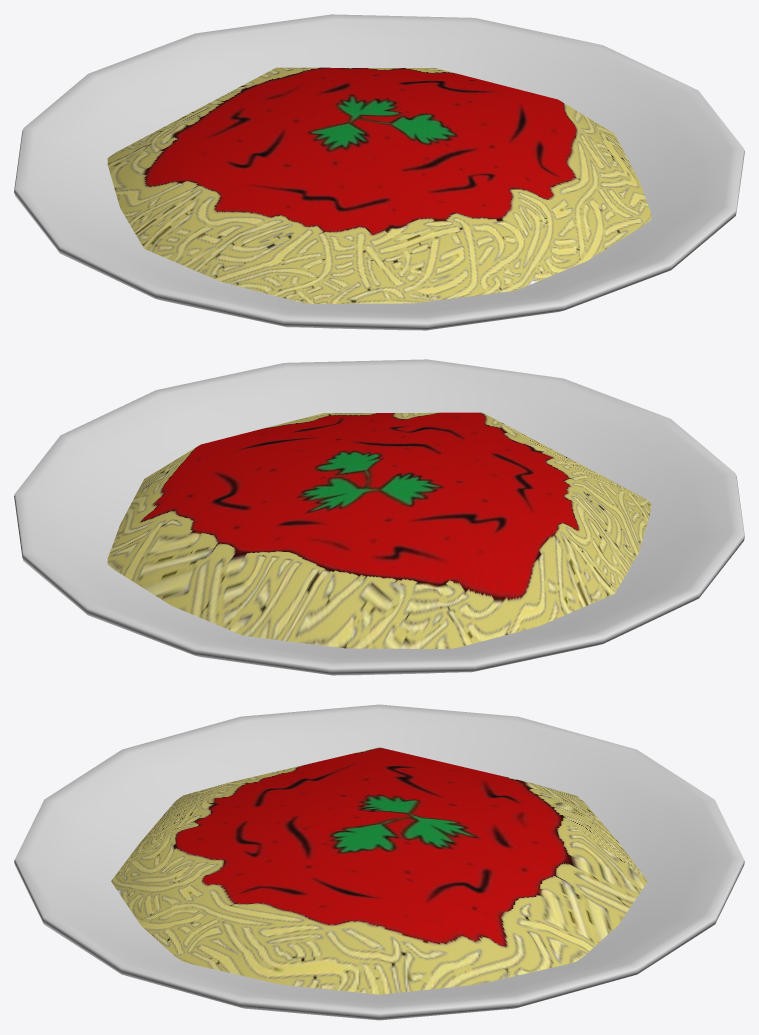
The model's file is pasta.fbx.
The picture shows the model from 3 angles, top to bottom: view 1: azimuth 30°, elevation 25°; view 2: azimuth 150°, elevation 25°; view 3: azimuth 270°, elevation 25°; orthographic projection.
Visible parts, largest first — view 1: polySurface3; view 2: polySurface3; view 3: polySurface3.
Boxes of the visible parts, x1,y1,x2,y2 form: polySurface3: (14, 14, 744, 330); polySurface3: (14, 359, 744, 675); polySurface3: (14, 704, 744, 1020).
Size of the model in its own units: 13.13 by 2.27 by 13.13.
